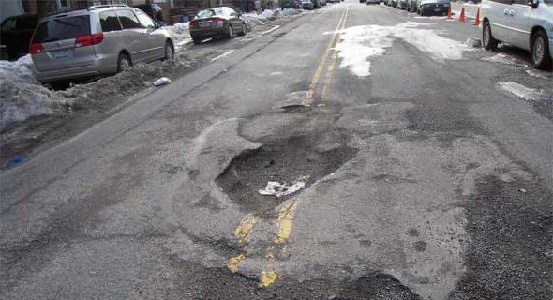pothole: (279, 99, 304, 114)
